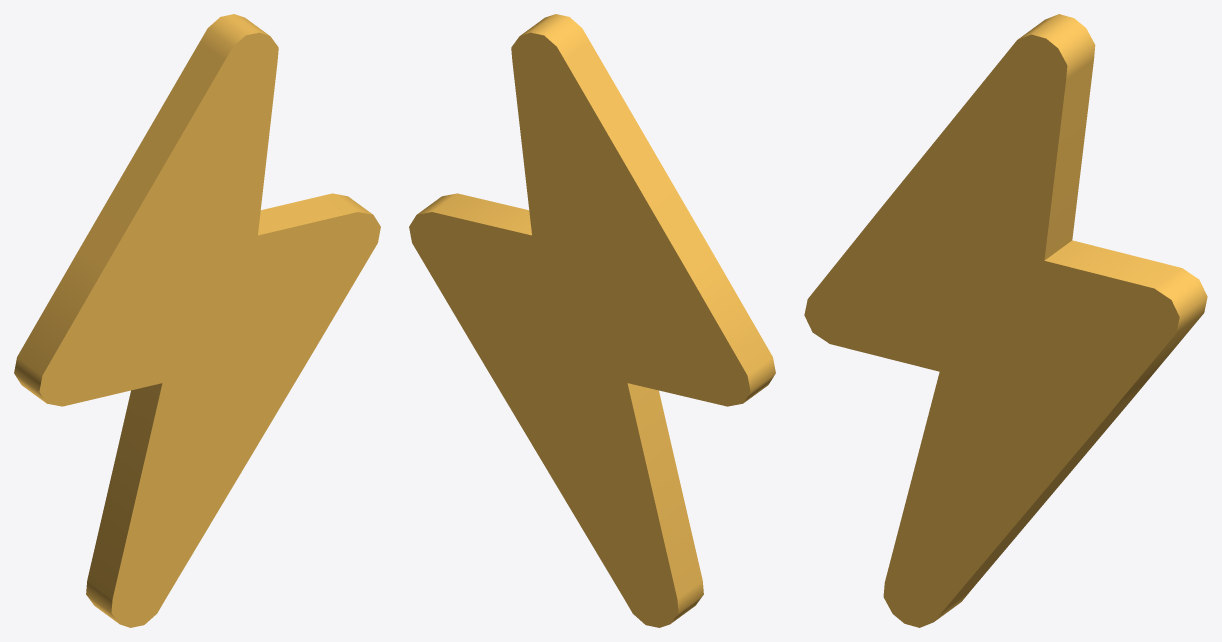
The model's file is Lightning Icon C.fbx.
3 views of the same model, side by side, from view 1: azimuth 30°, elevation 25°; view 2: azimuth 150°, elevation 25°; view 3: azimuth 330°, elevation 25° (orthographic). The views are drawn at different scales.
Visible parts, largest first — view 1: Lightning Icon C; view 2: Lightning Icon C; view 3: Lightning Icon C.
Part boxes in pixels (x1,y1,x2,y2): Lightning Icon C: (14, 14, 380, 627); Lightning Icon C: (409, 14, 775, 627); Lightning Icon C: (804, 14, 1207, 627).
Bounding box in the file's own units: 0.8066 × 1.27 × 0.1039.
